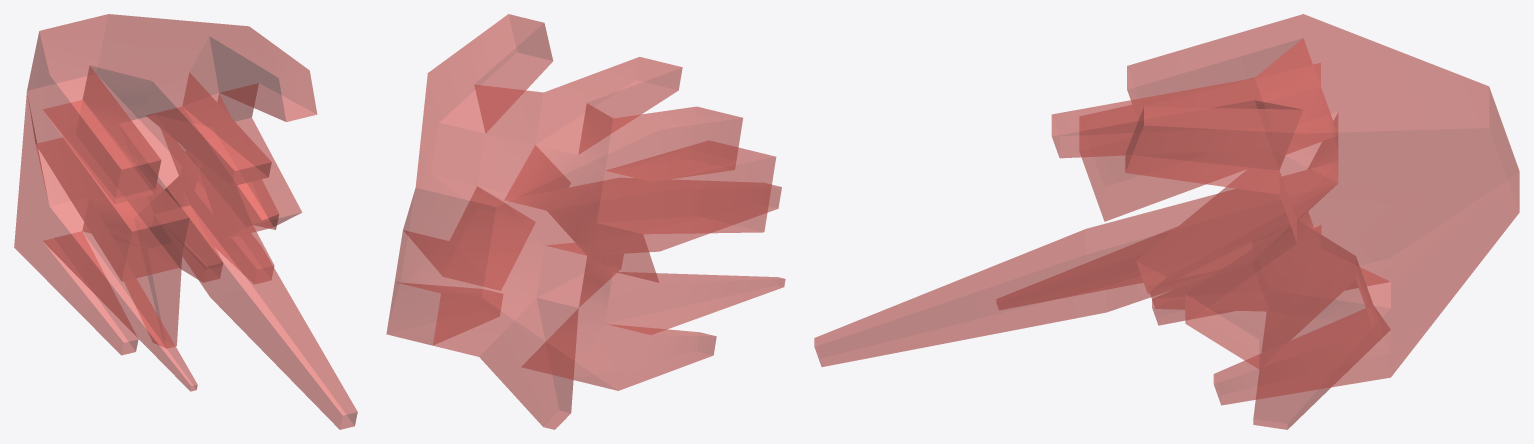
The model's file is Magic1.fbx.
The picture shows the model from 3 angles, left to right: view 1: azimuth 30°, elevation 25°; view 2: azimuth 150°, elevation 25°; view 3: azimuth 270°, elevation 25°; orthographic projection. The views are drawn at different scales.
Visible parts, largest first — view 1: Magic_3; view 2: Magic_3; view 3: Magic_3.
Part boxes in pixels (x1,y1,x2,y2): Magic_3: (14, 14, 357, 429); Magic_3: (386, 14, 785, 429); Magic_3: (814, 14, 1519, 429).
Size of the model in its own units: 0.3113 by 0.4053 by 0.7246.
